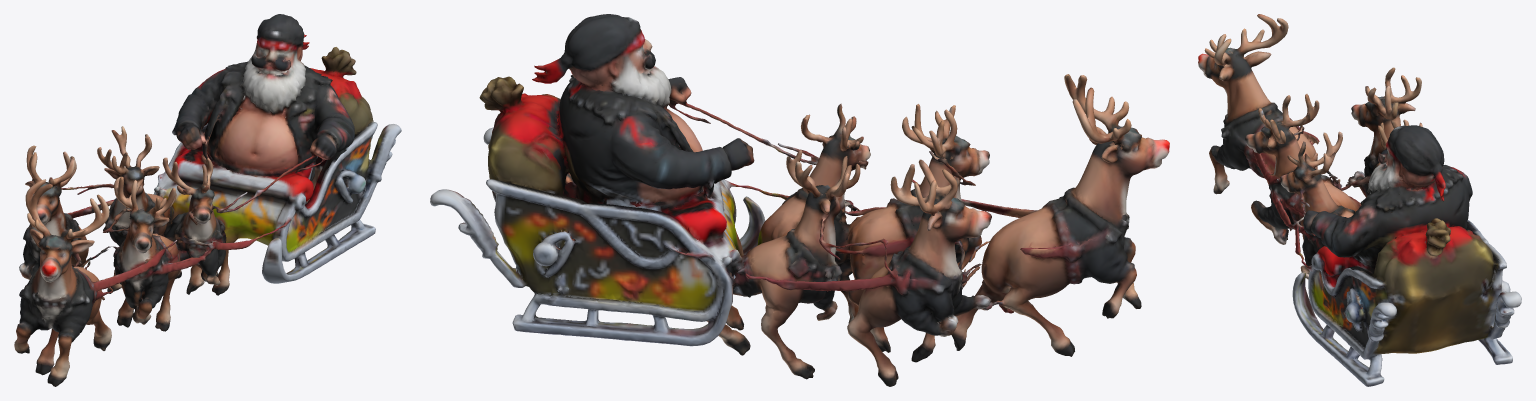
The model's file is Hell_s_Angel_Santa_final.glb.
The picture shows the model from 3 angles, left to right: view 1: azimuth 30°, elevation 25°; view 2: azimuth 150°, elevation 25°; view 3: azimuth 270°, elevation 25°; orthographic projection. The views are drawn at different scales.
Visible parts, largest first — view 1: Mesh1.0; view 2: Mesh1.0; view 3: Mesh1.0.
Boxes of the visible parts, <box> form: Mesh1.0: <box>14,14,401,386</box>; Mesh1.0: <box>430,14,1169,386</box>; Mesh1.0: <box>1198,14,1521,386</box>.
Bounding box in the file's own units: 1.92 × 1.01 × 1.17.
Materials: 1 (1 with a texture image).
